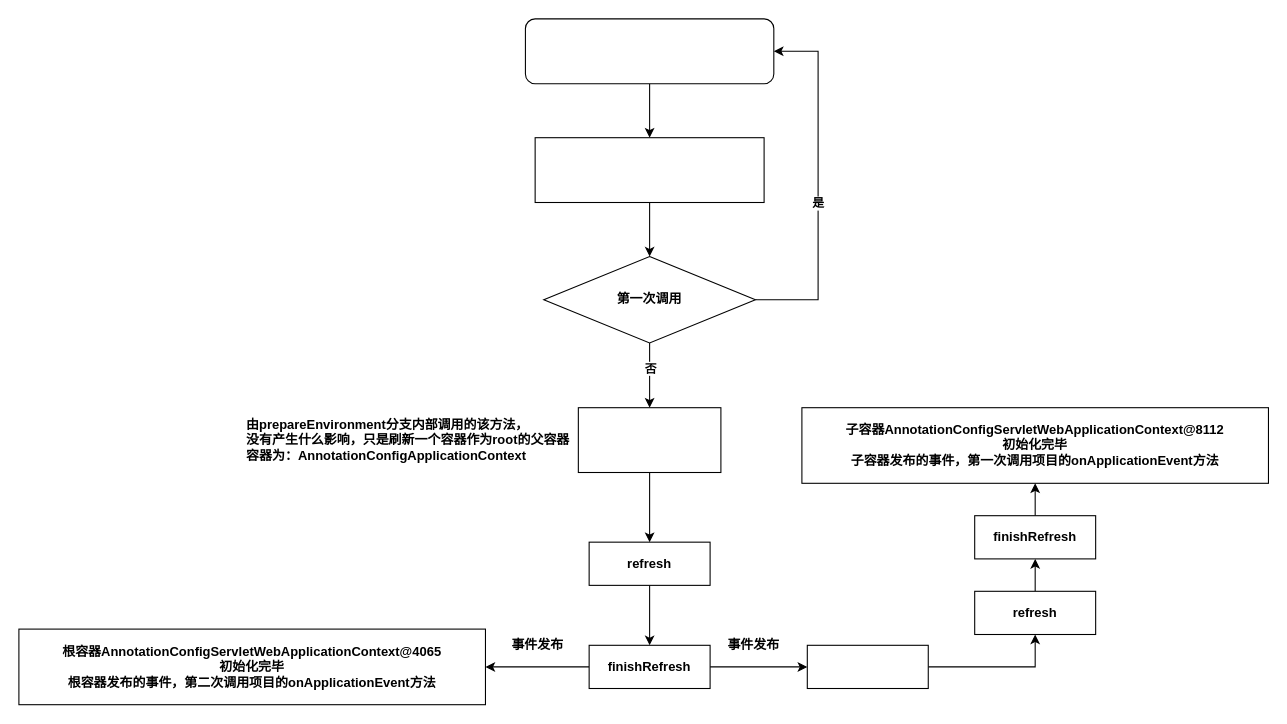
The diagram is 1287 pixels wide and 724 high, and some of its shapes have lost their labels. Here are the shapes that lost their labels. From the top down, the centre of each, then its label:
At point 649,51: "SpringApplication.run(String... args)".
At point 649,169: "prepareEnvironment 内部又会调用run，具体原因没有分析".
At point 649,440: "refreshContext".
At point 867,666: "刷新子容器".
